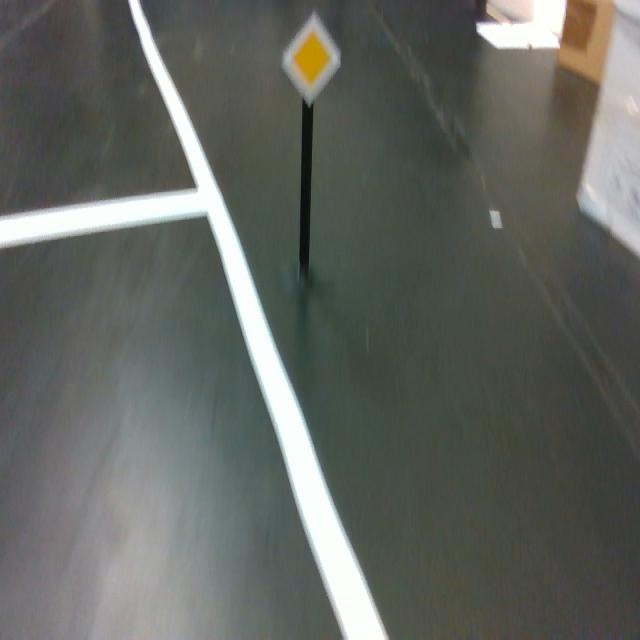priority-sign: (282, 8, 342, 108)
